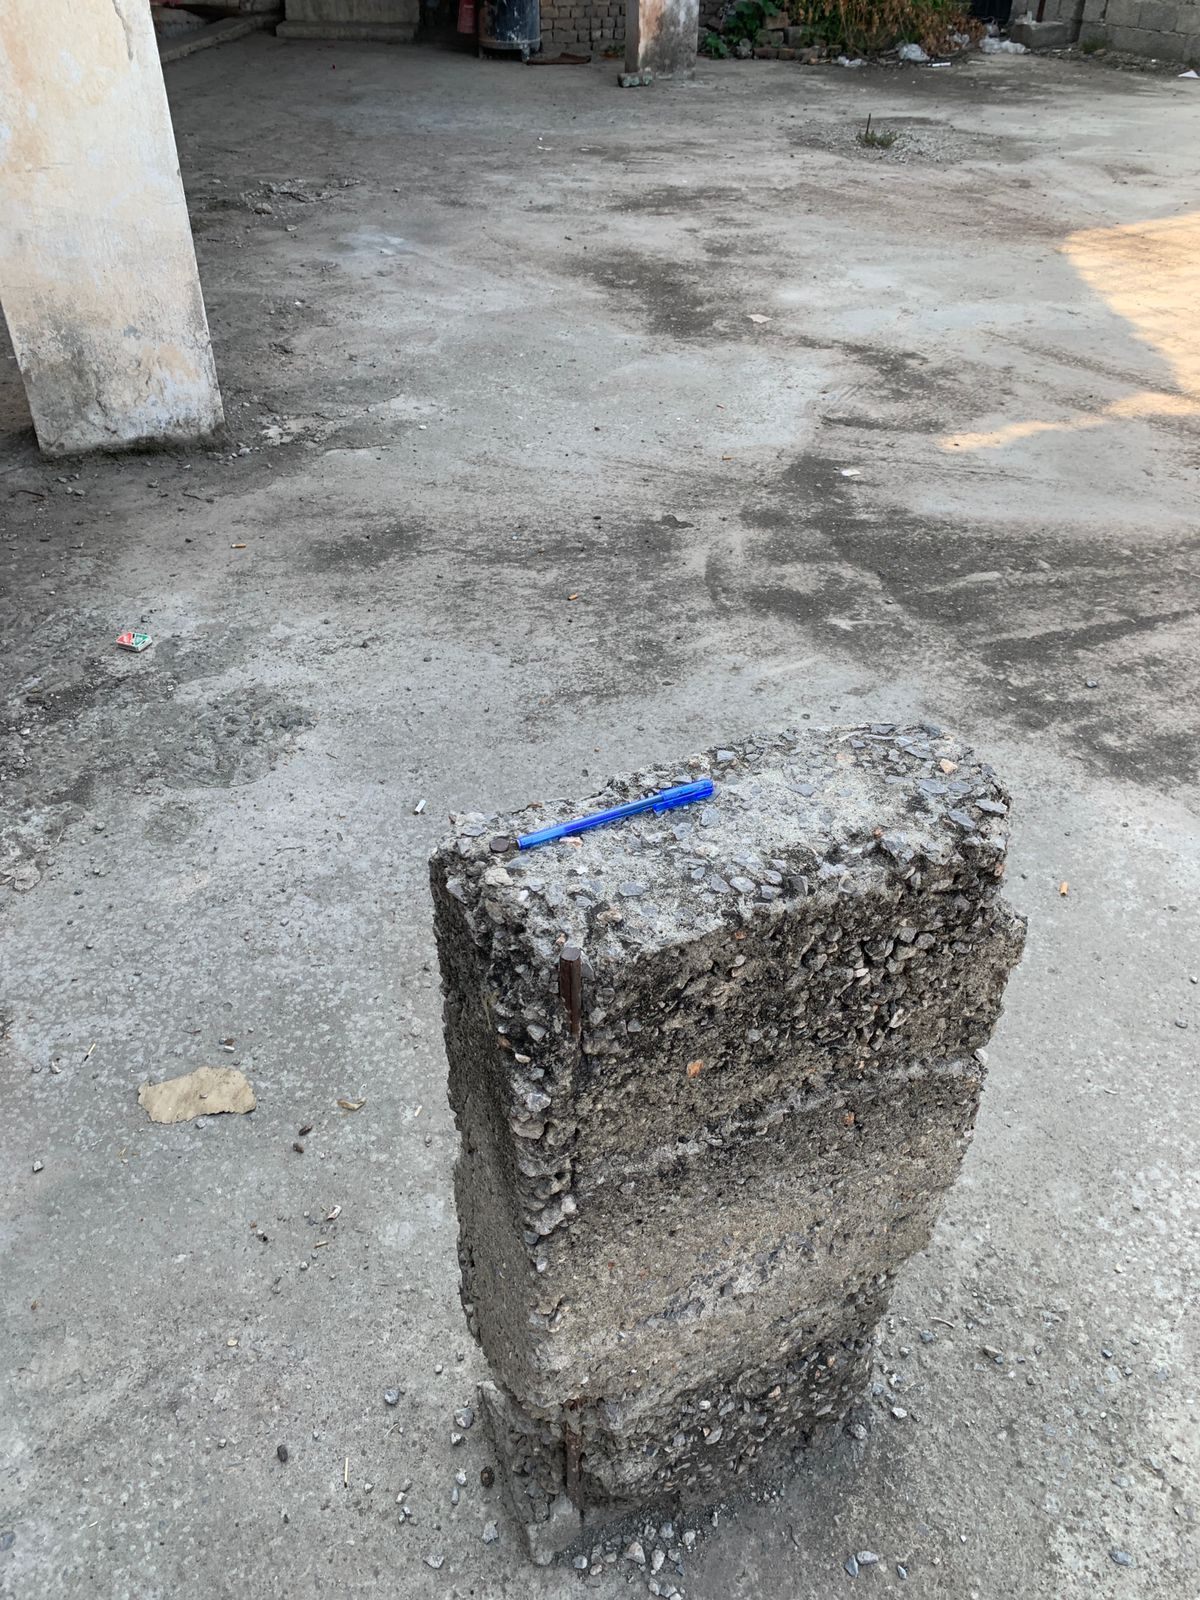pen: (467, 753, 751, 874)
